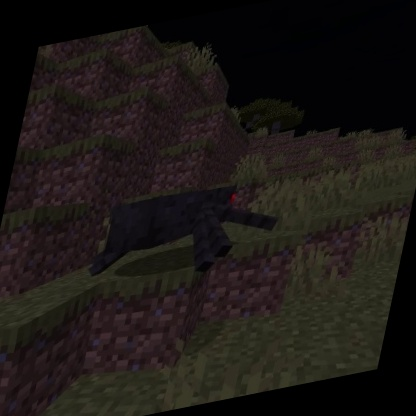spider: (77, 167, 292, 302)
